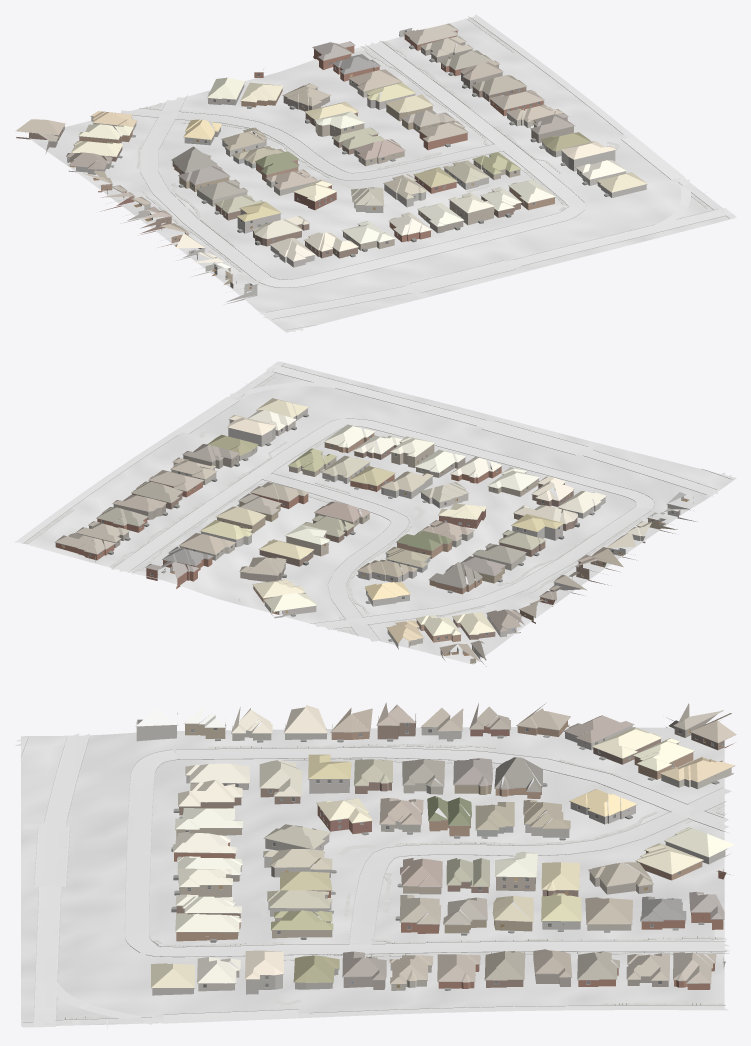
3 renders of one model, top to bottom at view 1: azimuth 30°, elevation 25°; view 2: azimuth 150°, elevation 25°; view 3: azimuth 270°, elevation 25°, orthographic. The views are drawn at different scales.
Parts seen in each view (by area): view 1: ground, roof, concrete, wall, asphalt, curb, wall_stone, detail, walk, wall_stucco; view 2: ground, roof, concrete, wall, asphalt, curb, detail, wall_stone, walk, wall_stucco; view 3: ground, roof, concrete, wall, asphalt, curb, wall_stone, detail, walk, wall_stucco, mark_w, glass.
Part boxes in pixels (x1=…): ground: x1=27, y1=16, x2=735, y2=332; roof: x1=15, y1=23, x2=647, y2=283; concrete: x1=120, y1=40, x2=585, y2=287; wall: x1=16, y1=30, x2=573, y2=284; asphalt: x1=259, y1=14, x2=736, y2=332; curb: x1=132, y1=16, x2=729, y2=330; wall_stone: x1=67, y1=28, x2=646, y2=304; detail: x1=25, y1=28, x2=647, y2=289; walk: x1=136, y1=17, x2=709, y2=272; wall_stucco: x1=91, y1=79, x2=625, y2=276; ground: x1=19, y1=361, x2=736, y2=664; roof: x1=55, y1=398, x2=686, y2=661; concrete: x1=111, y1=418, x2=654, y2=641; wall: x1=55, y1=433, x2=677, y2=666; asphalt: x1=14, y1=361, x2=732, y2=542; curb: x1=22, y1=363, x2=732, y2=640; detail: x1=55, y1=406, x2=693, y2=656; wall_stone: x1=95, y1=408, x2=696, y2=637; walk: x1=23, y1=375, x2=642, y2=634; wall_stucco: x1=171, y1=421, x2=645, y2=649; ground: x1=21, y1=727, x2=724, y2=1026; roof: x1=136, y1=702, x2=736, y2=987; concrete: x1=125, y1=747, x2=731, y2=956; wall: x1=174, y1=710, x2=735, y2=989; asphalt: x1=15, y1=733, x2=728, y2=1027; curb: x1=20, y1=737, x2=728, y2=1022; wall_stone: x1=136, y1=713, x2=731, y2=995; detail: x1=135, y1=714, x2=735, y2=990; walk: x1=65, y1=743, x2=726, y2=1019; wall_stucco: x1=198, y1=726, x2=733, y2=991; mark_w: x1=23, y1=736, x2=704, y2=1029; glass: x1=185, y1=723, x2=724, y2=987.
Size of the model in its own units: 270 by 16.1 by 257.
